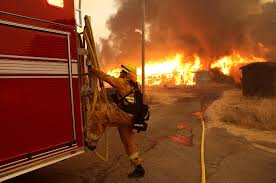emergent: (89, 63, 145, 177)
